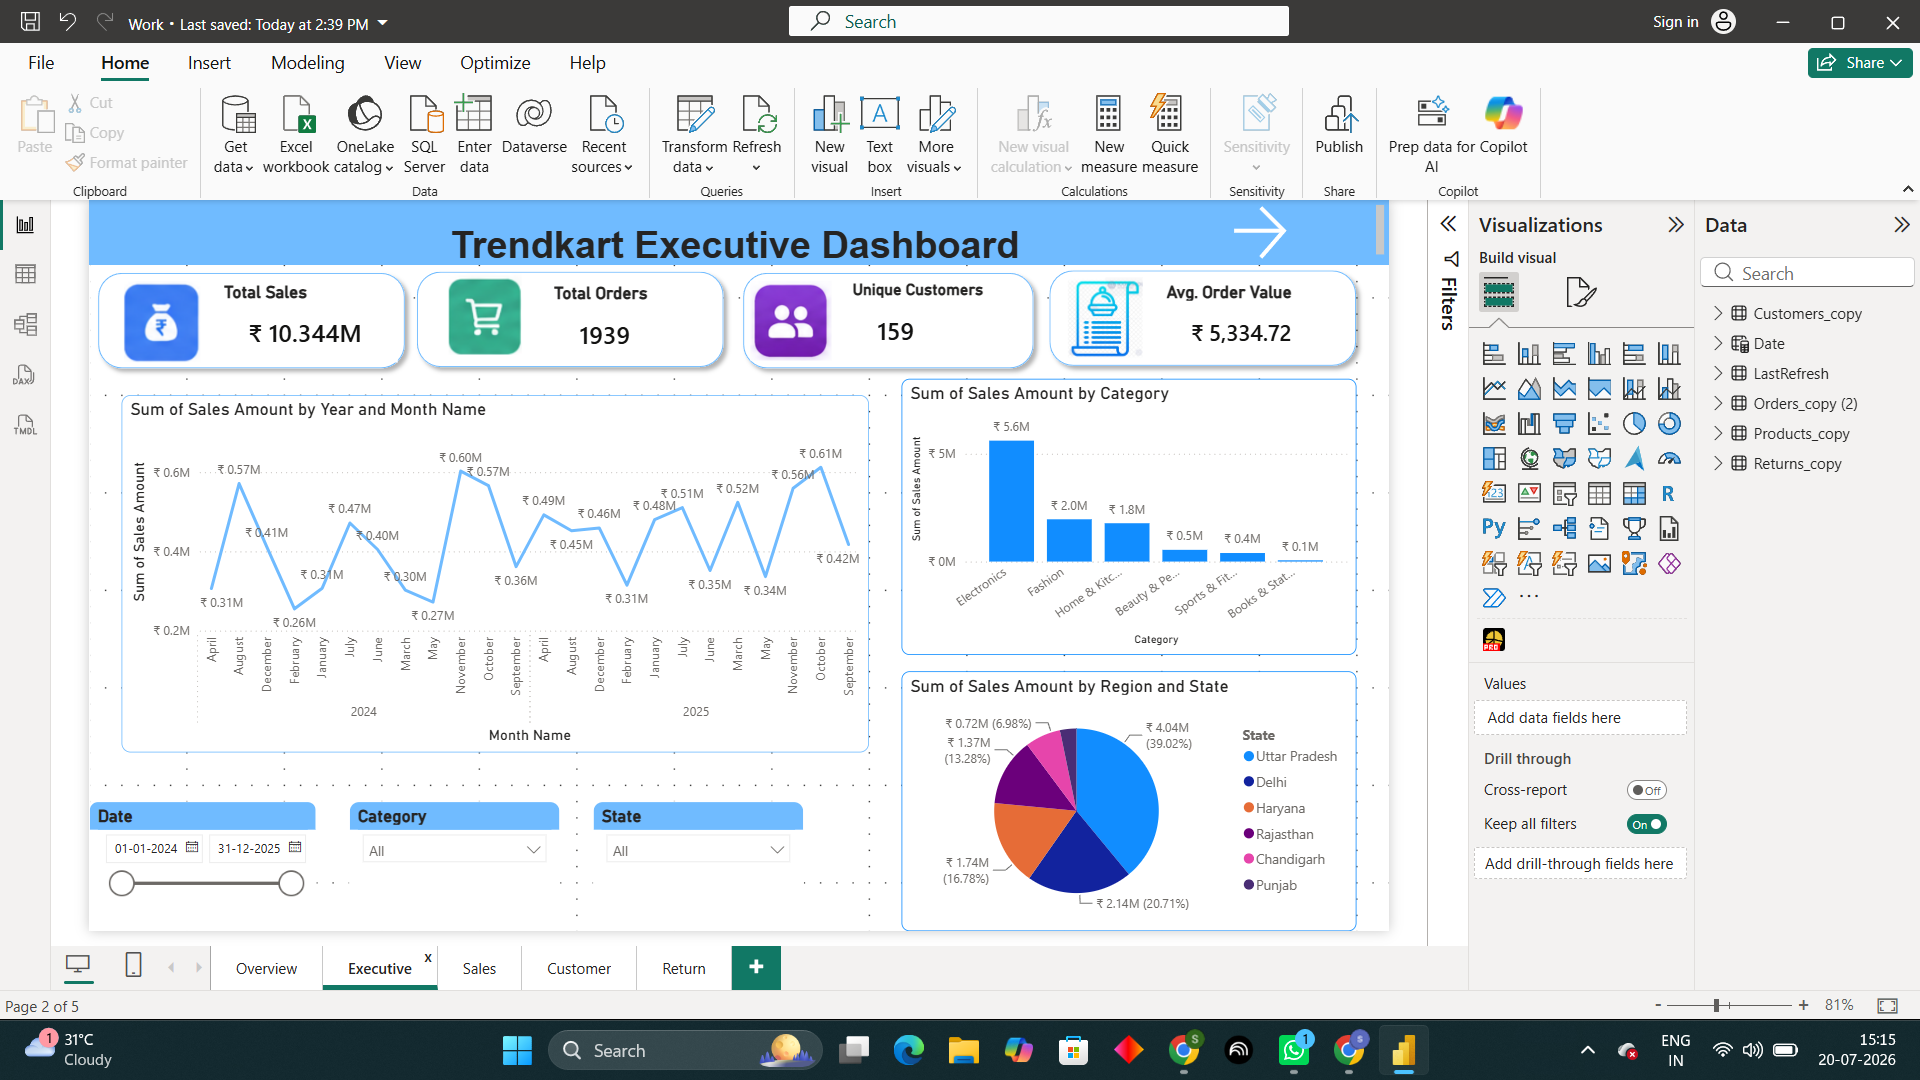

Layout of this report page (visuals, bound fields, positions):
{"tool":"powerbi","page":{"name":"Executive","canvas":[1280,720],"ordinal":1},"visuals":[{"type":"textbox","box":[0,0,1280,64],"z":0},{"type":"shape","box":[0,62.3,320,112],"z":1000},{"type":"cardVisual","title":"Total Sales","fields":{"Data":["Sum(Orders_copy (2).Sales Amount)"]},"box":[128,79.5,176,80],"z":2000},{"type":"image","box":[32,79.5,80,80],"z":3000},{"type":"shape","box":[313.8,61,320,112],"z":4000},{"type":"image","box":[341.7,72.1,96,80],"z":5000},{"type":"cardVisual","title":"Total Orders","fields":{"Data":["CountNonNull(Orders_copy (2).Order ID)"]},"box":[452.4,80.7,144,80],"z":6000},{"type":"shape","box":[635.1,62.3,304,112],"z":7000},{"type":"cardVisual","title":"Unique Customers","fields":{"Data":["CountNonNull(Customers_copy.Customer ID)"]},"box":[747.1,78.3,160,80],"z":8000},{"type":"image","box":[651.1,78.3,80,80],"z":9000},{"type":"lineChart","fields":{"Y":["Sum(Orders_copy (2).Sales Amount)"],"Category":["Date.Year","Date.Month Name"]},"box":[32,192,736,352],"z":10000},{"type":"slicer","title":"Date","fields":{"Values":["Date.Date"]},"box":[0,592,224,128],"z":11000},{"type":"slicer","title":"Category","fields":{"Values":["Products_copy.Category"]},"box":[256,592,208,128],"z":12000},{"type":"clusteredColumnChart","fields":{"Category":["Products_copy.Category"],"Y":["Sum(Orders_copy (2).Sales Amount)"]},"box":[800,176,448,272],"z":13000},{"type":"shape","box":[937.1,60.1,320,112],"z":14000},{"type":"pieChart","fields":{"Category":["Customers_copy.Region","Customers_copy.State"],"Y":["Sum(Orders_copy (2).Sales Amount)"]},"box":[800,464,448,256],"z":15000},{"type":"image","box":[953.1,76.1,96,80],"z":16000},{"type":"cardVisual","title":"Avg. Order Value","fields":{"Data":["Orders_copy (2).AOV"]},"box":[1056,80,176,80],"z":17000},{"type":"slicer","title":"State","fields":{"Values":["Customers_copy.State"]},"box":[496,592,208,128],"z":18000},{"type":"actionButton","box":[1120,0,96,64],"z":19000}]}

Visuals, with their boxes on the page's 1280x720 design canvas (x1, y1, x2, y2). These are canvas units, not pixel positions in the 1920x1080 screenshot, which may show the page scaled, cropped or inside an application window:
textbox: rect(0, 0, 1280, 64)
shape: rect(0, 62, 320, 174)
"Total Sales" cardVisual: rect(128, 80, 304, 160)
image: rect(32, 80, 112, 160)
shape: rect(314, 61, 634, 173)
image: rect(342, 72, 438, 152)
"Total Orders" cardVisual: rect(452, 81, 596, 161)
shape: rect(635, 62, 939, 174)
"Unique Customers" cardVisual: rect(747, 78, 907, 158)
image: rect(651, 78, 731, 158)
lineChart - Sum(Orders_copy (2).Sales Amount) x Date.Year: rect(32, 192, 768, 544)
"Date" slicer: rect(0, 592, 224, 720)
"Category" slicer: rect(256, 592, 464, 720)
clusteredColumnChart - Products_copy.Category x Sum(Orders_copy (2).Sales Amount): rect(800, 176, 1248, 448)
shape: rect(937, 60, 1257, 172)
pieChart - Customers_copy.Region x Customers_copy.State: rect(800, 464, 1248, 720)
image: rect(953, 76, 1049, 156)
"Avg. Order Value" cardVisual: rect(1056, 80, 1232, 160)
"State" slicer: rect(496, 592, 704, 720)
actionButton: rect(1120, 0, 1216, 64)
